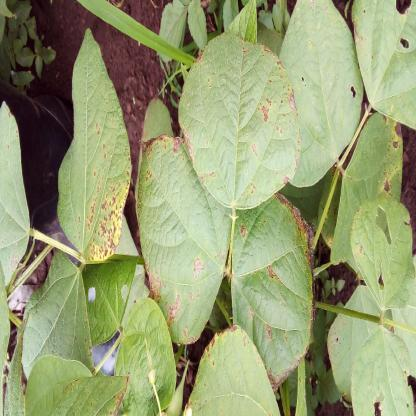Beans_Angular_LeafSpot: (176, 38, 302, 204), (135, 132, 229, 343), (56, 30, 131, 267), (333, 113, 416, 267), (356, 10, 416, 129), (196, 331, 272, 416)
